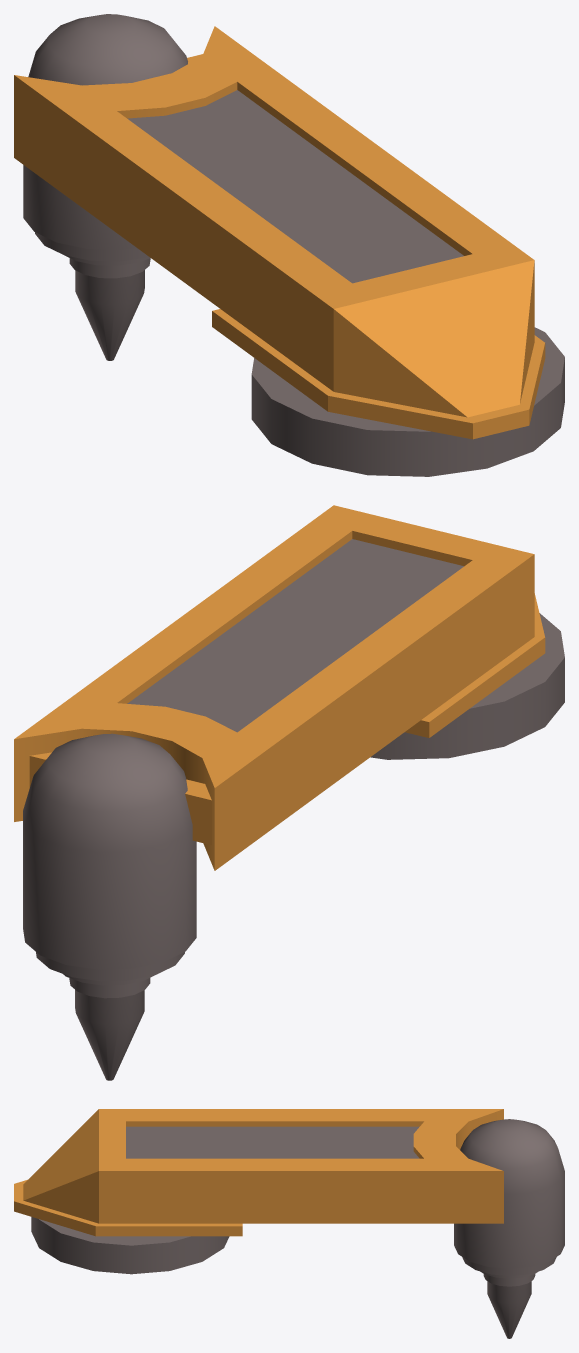
The model's file is DrillLevel1.fbx.
3 views of the same model, one above another, from view 1: azimuth 30°, elevation 25°; view 2: azimuth 150°, elevation 25°; view 3: azimuth 270°, elevation 25° (orthographic). The views are drawn at different scales.
Visible parts, largest first — view 1: Drill; view 2: Drill; view 3: Drill.
Part boxes in pixels (box(x1,y1,x2,y2)): Drill: box(14, 14, 564, 476); Drill: box(14, 505, 564, 1080); Drill: box(14, 1109, 564, 1338).
Size of the model in its own units: 268 by 313 by 737.
